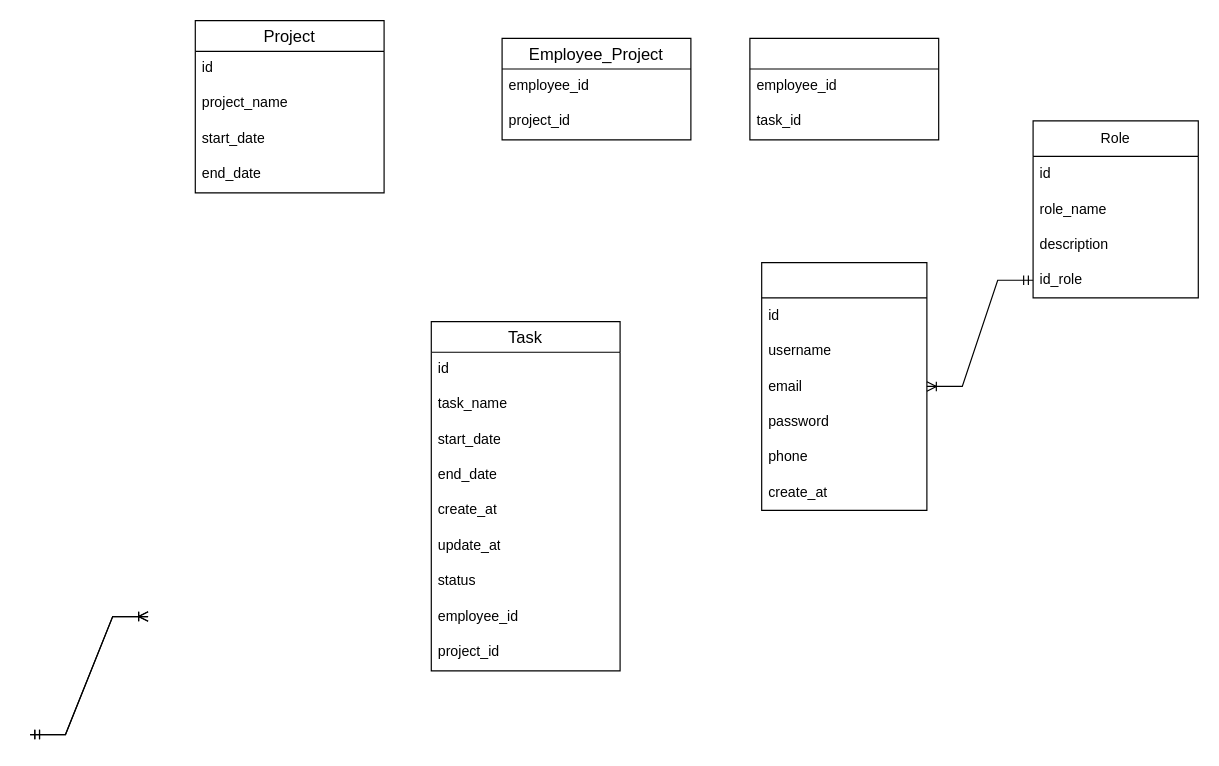
The diagram is 1219 pixels wide and 766 high, and some of its shapes have lost their labels. Here are the shapes that lost their labels. From the top down, the box of each, then its label:
(749, 37, 939, 140): Employee_Task
(761, 261, 927, 510): Employee
